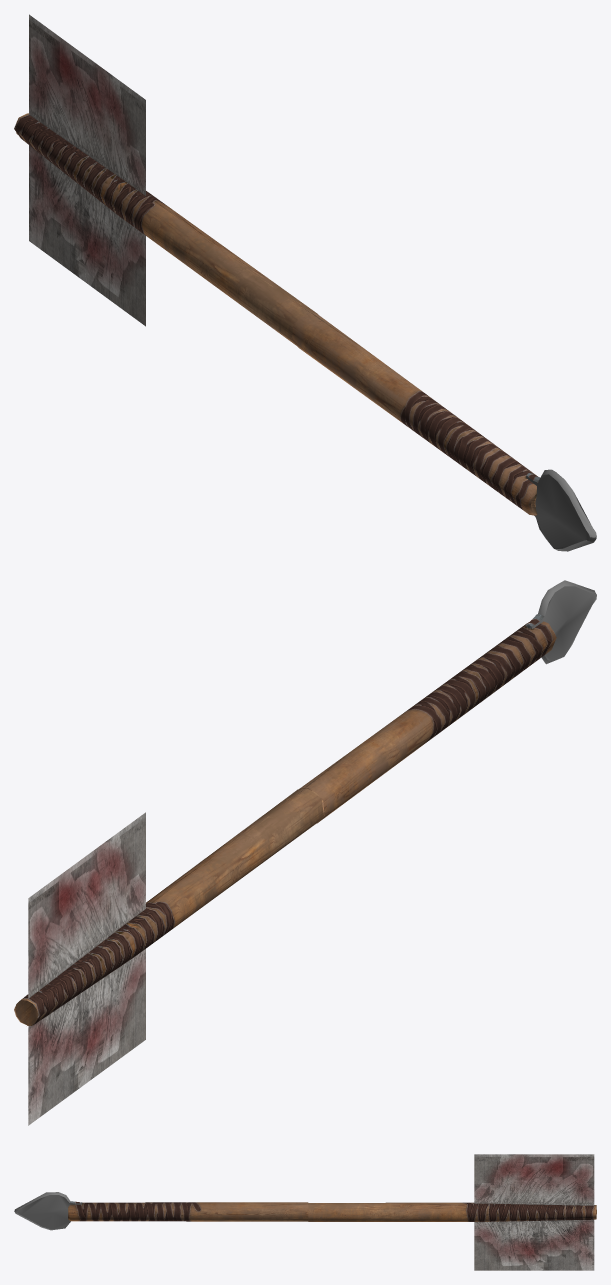
File: arrow.glb
3 renders of one model, top to bottom at view 1: azimuth 30°, elevation 25°; view 2: azimuth 150°, elevation 25°; view 3: azimuth 270°, elevation 25°, orthographic. The views are drawn at different scales.
Parts seen in each view (by area): view 1: arrow; view 2: arrow; view 3: arrow.
Boxes of the visible parts, <box> form: arrow: <box>14,14,596,551</box>; arrow: <box>14,580,596,1125</box>; arrow: <box>14,1154,596,1270</box>.
Bounding box in the file's own units: 0.0263 × 0.1676 × 0.7613.
Materials: 2 (1 with a texture image).
